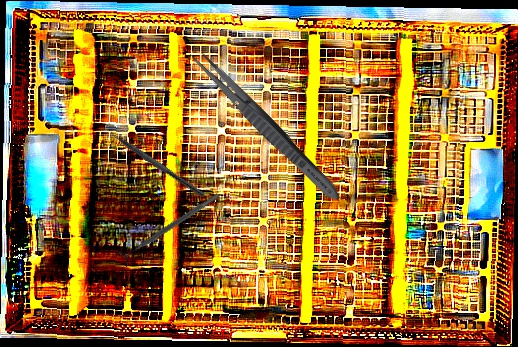Chopper: (102, 121, 209, 198)
Dressing Forceps: (184, 44, 347, 207)
Fixation Ring: (116, 188, 224, 268)
